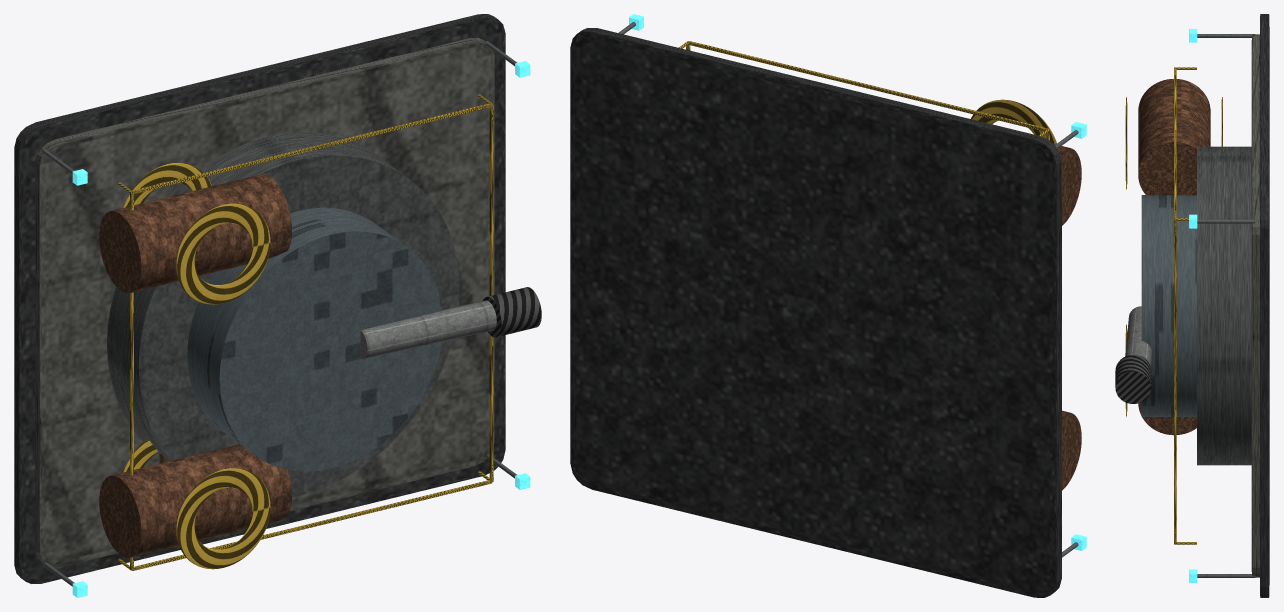
The model's file is b-36-flame-tower-lod0.glb.
3 views of the same model, side by side, from view 1: azimuth 30°, elevation 25°; view 2: azimuth 150°, elevation 25°; view 3: azimuth 270°, elevation 25° (orthographic). The views are drawn at different scales.
Parts seen in each view (by area): view 1: foundation_inner_pad, primary_turret_yaw, turret_base, foundation, flame_fuel_2.6_vessel, flame_fuel_-2.6_vessel, flame_fuel_2.6_ring_high, flame_fuel_-2.6_ring_high, flame_projector_barrel_0, flame_projector_muzzle_0, turret_service_railing_rail_x_3.7, turret_service_railing_rail_y_3.7 (+3 smaller); view 2: foundation, turret_service_railing_rail_x_3.7, flame_fuel_2.6_ring_high, flame_fuel_2.6_vessel, flame_fuel_-2.6_vessel; view 3: turret_base, primary_turret_yaw, flame_fuel_2.6_vessel, foundation, foundation_inner_pad, flame_projector_muzzle_0, turret_service_railing_rail_y_3.7, flame_projector_barrel_0, flame_fuel_-2.6_vessel, turret_service_railing_rail_x_3.7, perimeter_light_4.55_4.05, flame_fuel_2.6_ring_high (+1 smaller).
Part boxes in pixels (bbox=[...]): foundation_inner_pad: bbox=[35, 38, 494, 567]; primary_turret_yaw: bbox=[187, 207, 442, 471]; turret_base: bbox=[107, 132, 459, 496]; foundation: bbox=[14, 14, 505, 583]; flame_fuel_2.6_vessel: bbox=[99, 174, 291, 293]; flame_fuel_-2.6_vessel: bbox=[99, 444, 291, 557]; flame_fuel_2.6_ring_high: bbox=[176, 203, 270, 304]; flame_fuel_-2.6_ring_high: bbox=[176, 468, 270, 569]; flame_projector_barrel_0: bbox=[360, 300, 496, 359]; flame_projector_muzzle_0: bbox=[482, 287, 541, 337]; turret_service_railing_rail_x_3.7: bbox=[132, 103, 492, 193]; turret_service_railing_rail_y_3.7: bbox=[489, 104, 493, 481]; foundation: bbox=[570, 28, 1061, 597]; turret_service_railing_rail_x_3.7: bbox=[688, 41, 1048, 131]; flame_fuel_2.6_ring_high: bbox=[971, 99, 1056, 144]; flame_fuel_2.6_vessel: bbox=[1054, 144, 1081, 225]; flame_fuel_-2.6_vessel: bbox=[1062, 410, 1081, 490]; turret_base: bbox=[1197, 146, 1251, 465]; primary_turret_yaw: bbox=[1141, 195, 1196, 416]; flame_fuel_2.6_vessel: bbox=[1138, 79, 1210, 195]; foundation: bbox=[1260, 14, 1269, 597]; foundation_inner_pad: bbox=[1251, 34, 1259, 577]; flame_projector_muzzle_0: bbox=[1115, 354, 1151, 403]; turret_service_railing_rail_y_3.7: bbox=[1174, 219, 1176, 543]; flame_projector_barrel_0: bbox=[1125, 306, 1151, 365]; flame_fuel_-2.6_vessel: bbox=[1138, 402, 1196, 435]; turret_service_railing_rail_x_3.7: bbox=[1174, 67, 1176, 219]; perimeter_light_4.55_4.05: bbox=[1197, 219, 1255, 223]; flame_fuel_2.6_ring_high: bbox=[1125, 97, 1127, 189].
Size of what is drawn, in the model's own units: 10 by 9 by 3.19.
Materials: 11 (11 with a texture image).
